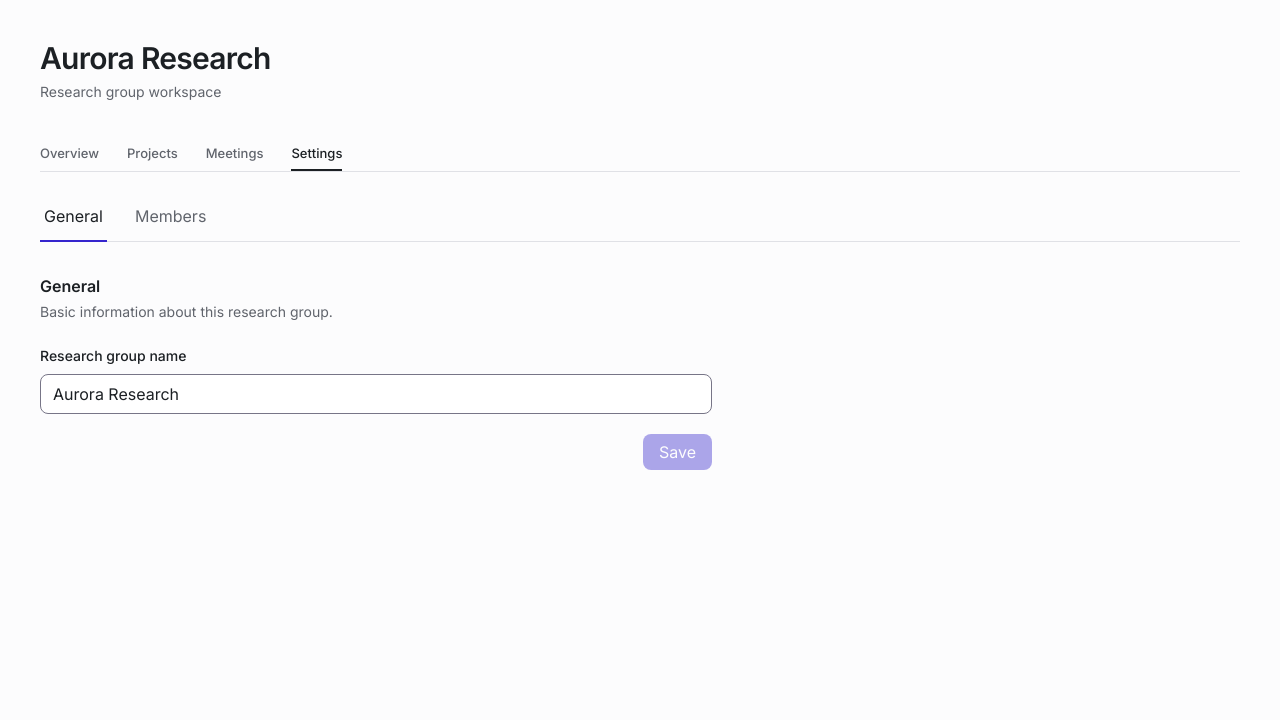
it: Research Group Settings theme contract › keeps the Add member dialog thematically consistent in light
Check: the heading "Aurora Research" is shown, box [40,40,271,76]
Check: the heading "General" is shown, box [40,276,100,296]
Click the button "Members" at (171, 223), box [131,204,210,242]
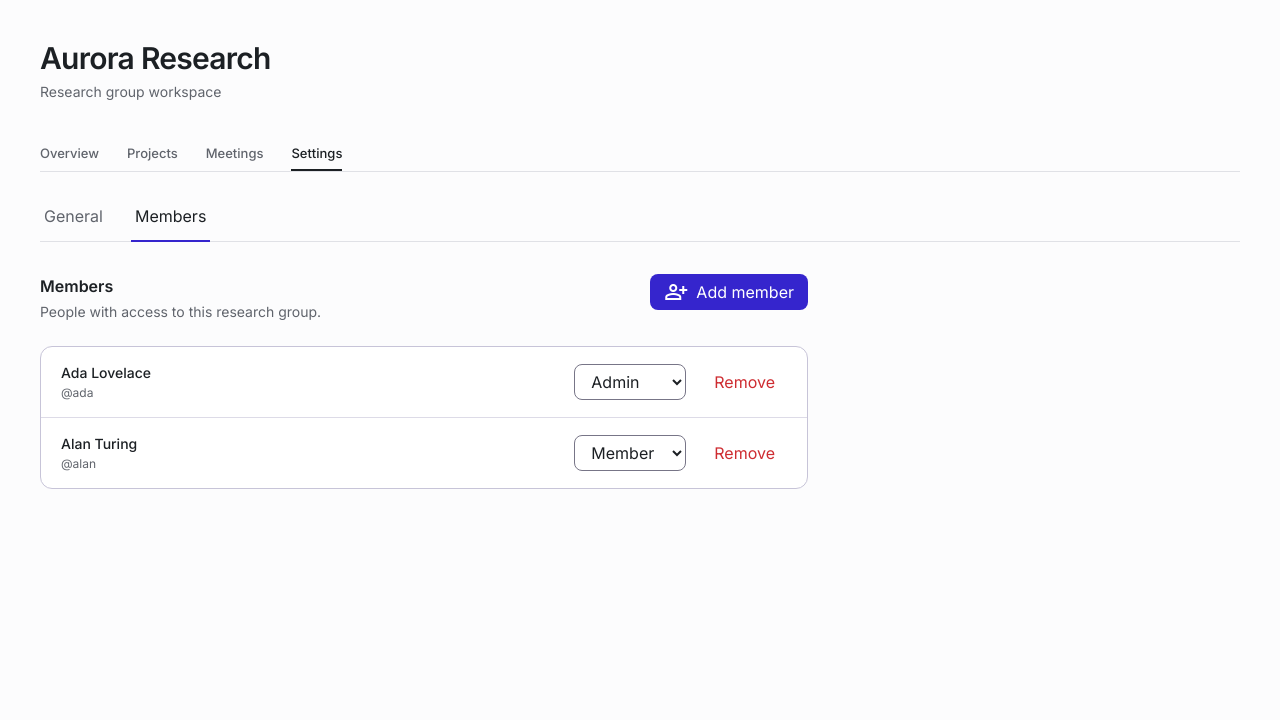
Check: the heading "Members" is shown, box [40,276,113,296]
Click the button "Add member" at (729, 292), box [650,274,808,310]
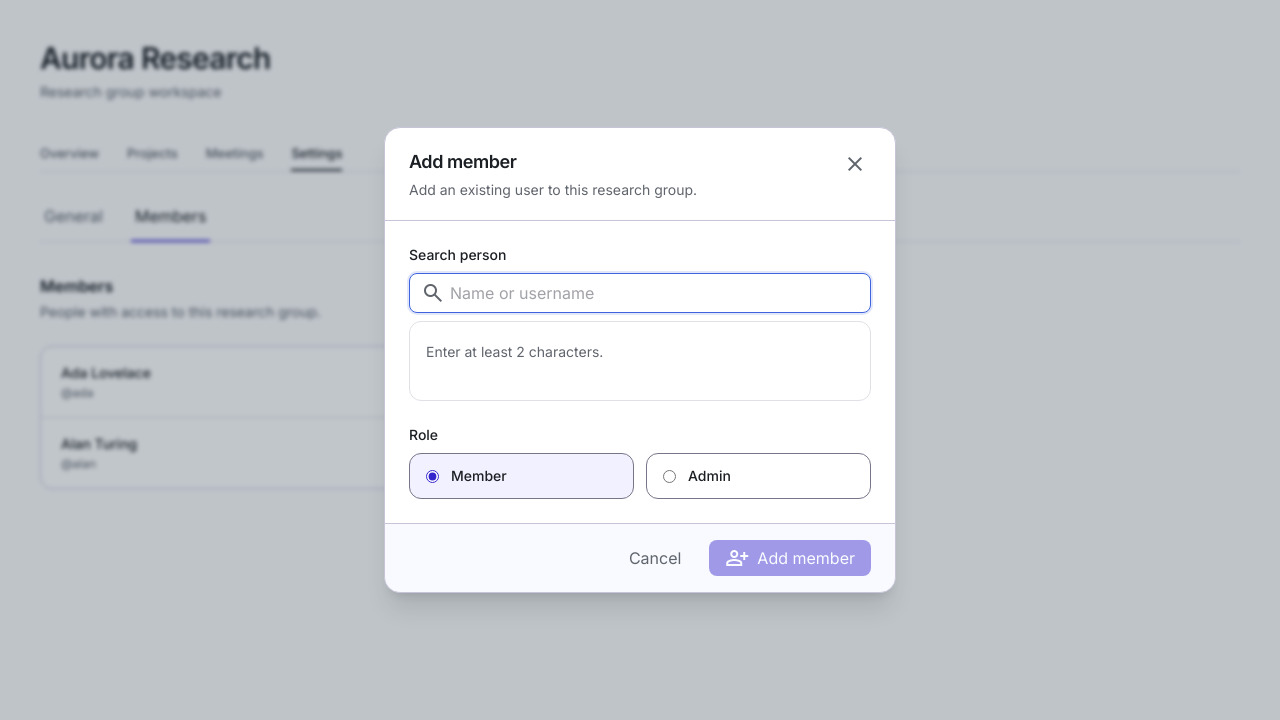
Type "gra" into the search field labelled "Search person" at (640, 293), box [409,273,871,313]
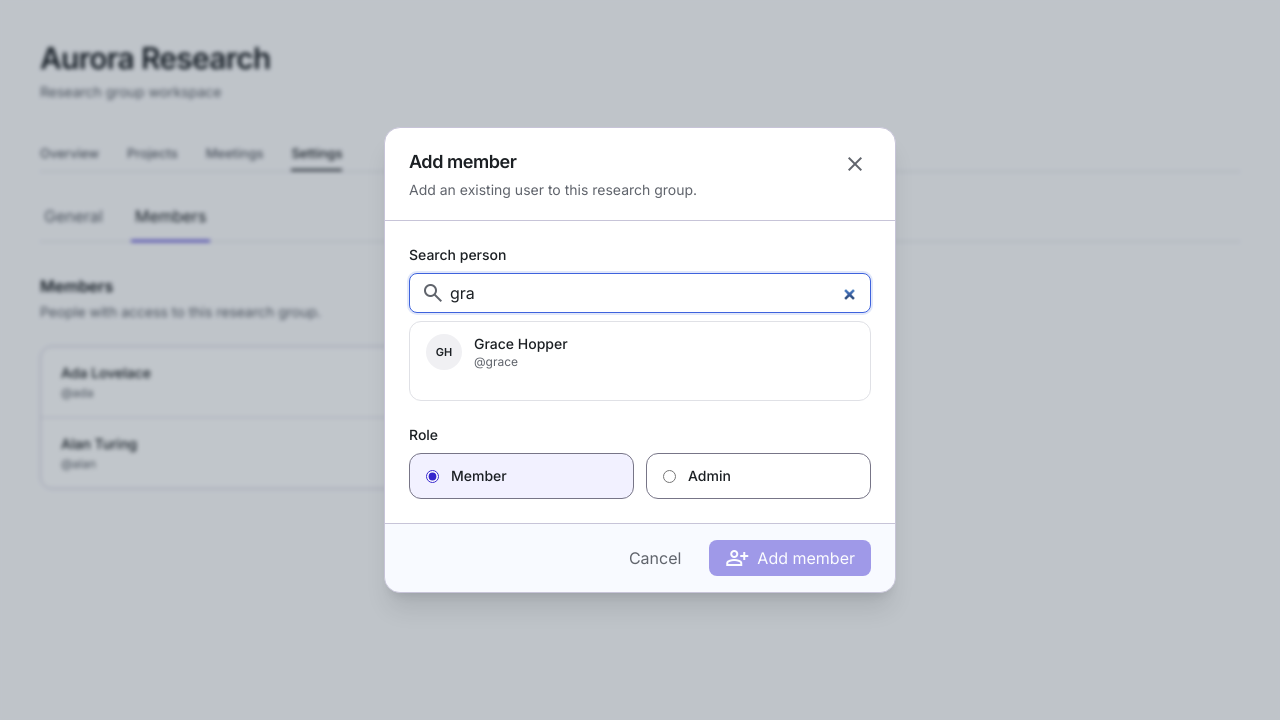
Check: the button "GH Grace Hopper @grace" is shown
Click the button "GH Grace Hopper @grace" at (444, 352), box [410,322,870,382]
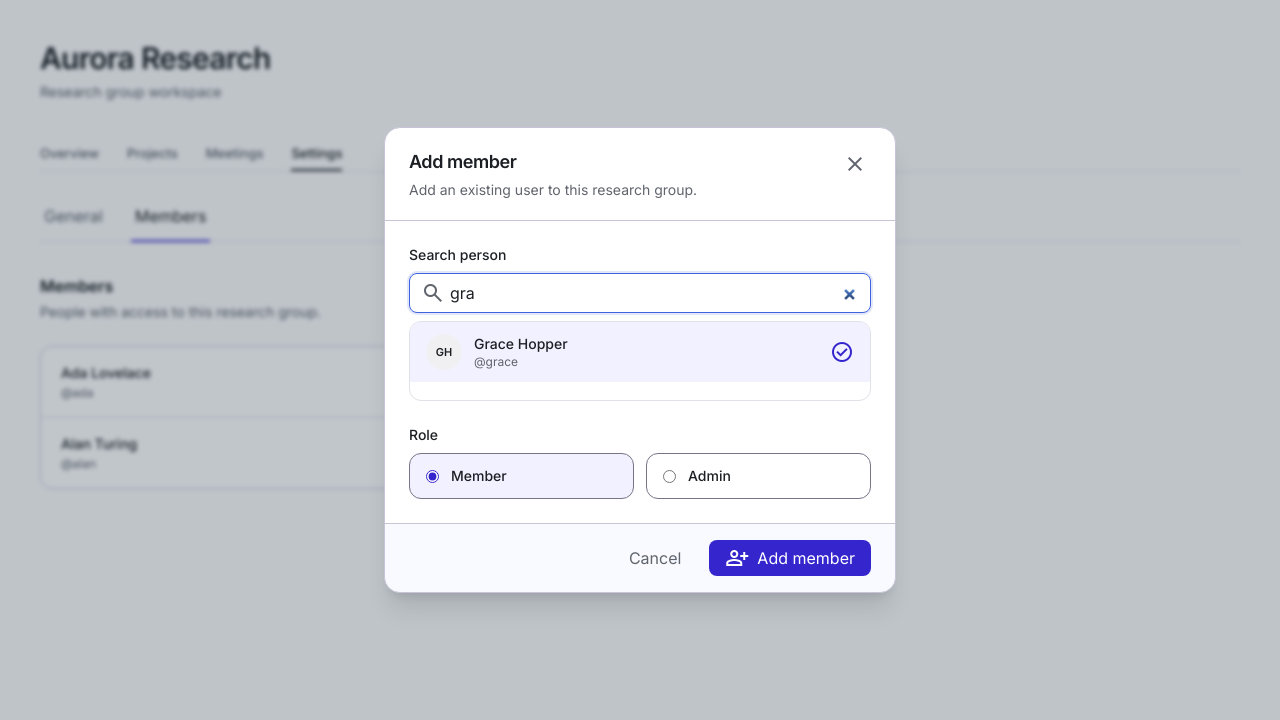
Check: the footer is shown, box [385,523,895,592]
Check: the button "Add member" is enabled, box [709,540,871,576]
